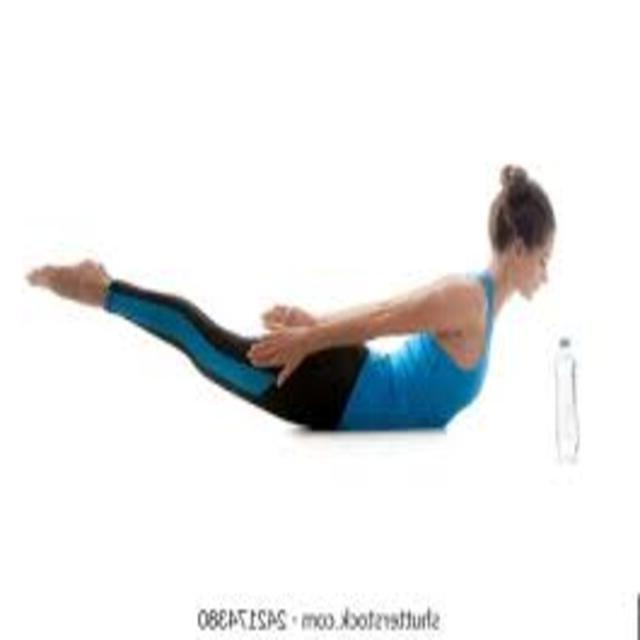Locust_Pose: (27, 164, 552, 432)
